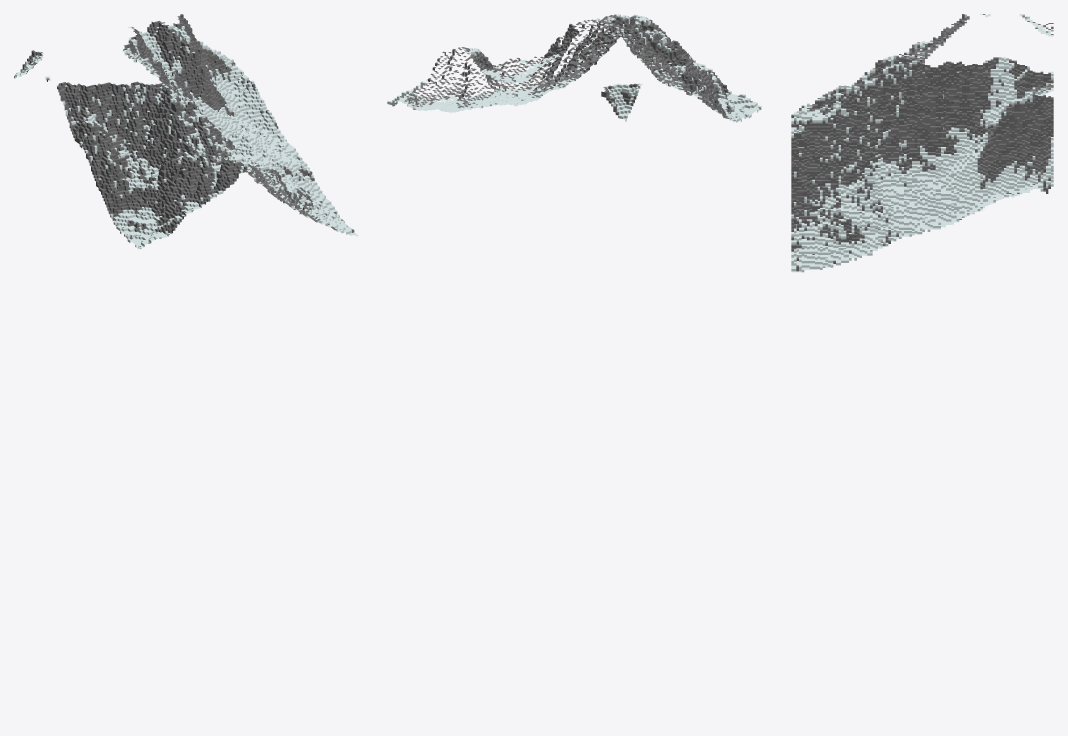
File: chunk1500--3000-lvl-1-transformed.glb
The picture shows the model from 3 angles, left to right: view 1: azimuth 30°, elevation 25°; view 2: azimuth 150°, elevation 25°; view 3: azimuth 270°, elevation 25°; orthographic projection. The views are drawn at different scales.
Visible parts, largest first — view 1: Snow_Block, Cobblestone, Stone; view 2: Snow_Block, Stone, Cobblestone; view 3: Snow_Block, Stone, Cobblestone.
Part boxes in pixels (x1,y1,x2,y2): Snow_Block: (14,25,358,249); Cobblestone: (24,14,343,243); Stone: (20,16,354,238); Snow_Block: (387,14,761,122); Stone: (397,14,739,120); Cobblestone: (392,16,752,118); Snow_Block: (791,14,1053,272); Stone: (791,14,1053,271); Cobblestone: (791,14,1053,267).
Size of the model in its own units: 100 by 251 by 100.
Materials: 14 (14 with a texture image).
